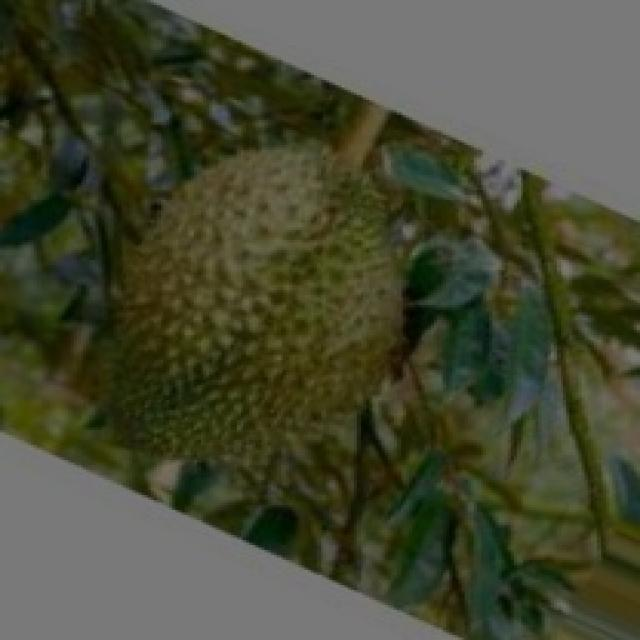fruit: (9, 108, 443, 548)
